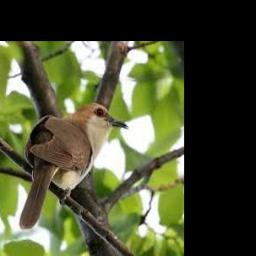Cuckoo: (19, 102, 128, 230)
